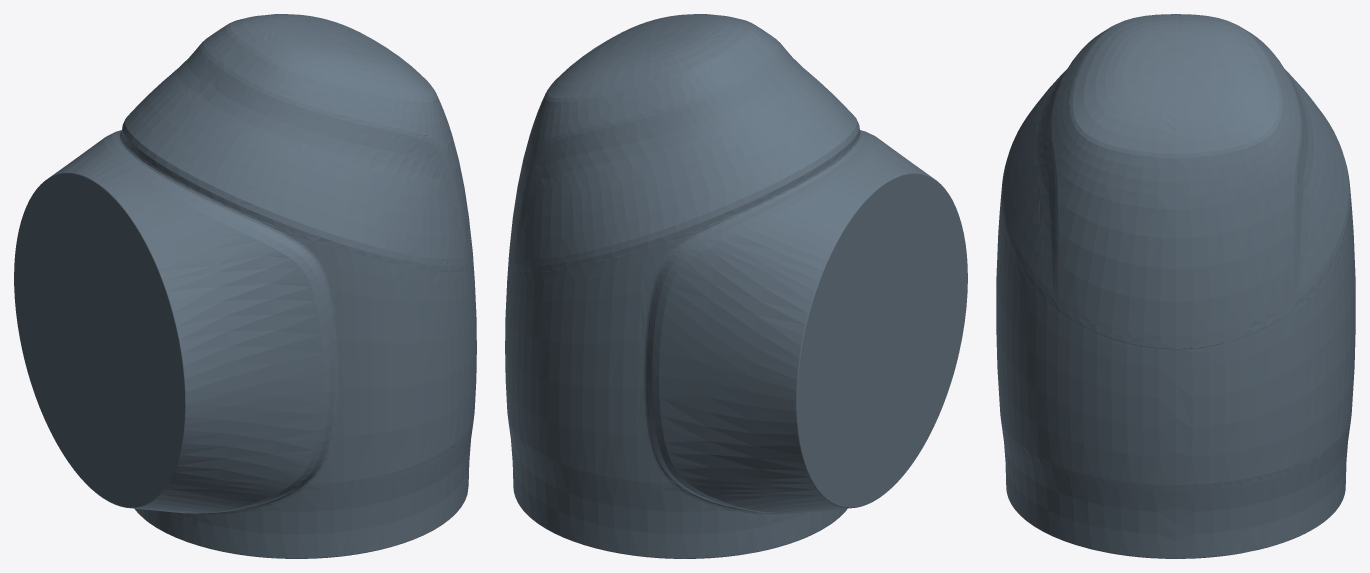
The picture shows the model from 3 angles, left to right: view 1: azimuth 30°, elevation 25°; view 2: azimuth 150°, elevation 25°; view 3: azimuth 270°, elevation 25°; orthographic projection.
Parts seen in each view (by area): view 1: H2515_2_2; view 2: H2515_2_2; view 3: H2515_2_2.
Boxes of the visible parts, bbox=[...] form: H2515_2_2: bbox=[14, 14, 476, 558]; H2515_2_2: bbox=[505, 14, 967, 558]; H2515_2_2: bbox=[996, 14, 1355, 558].
Bounding box in the file's own units: 182 × 162 × 225.
